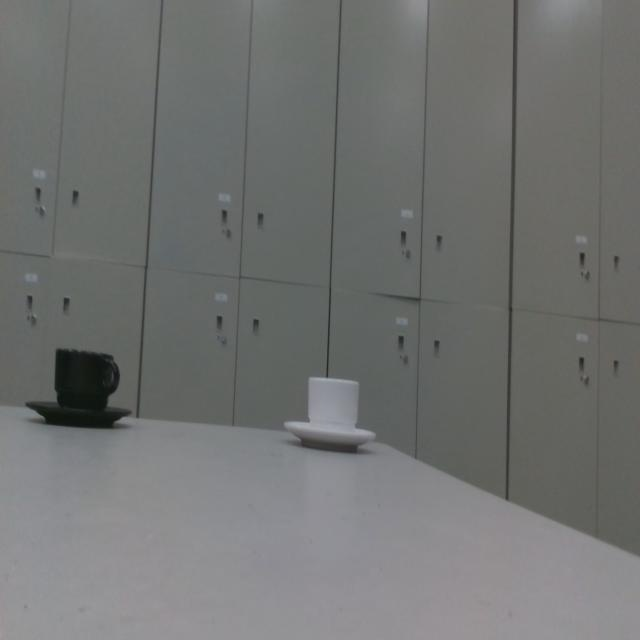black: (25, 347, 136, 434)
white: (284, 359, 376, 457)
